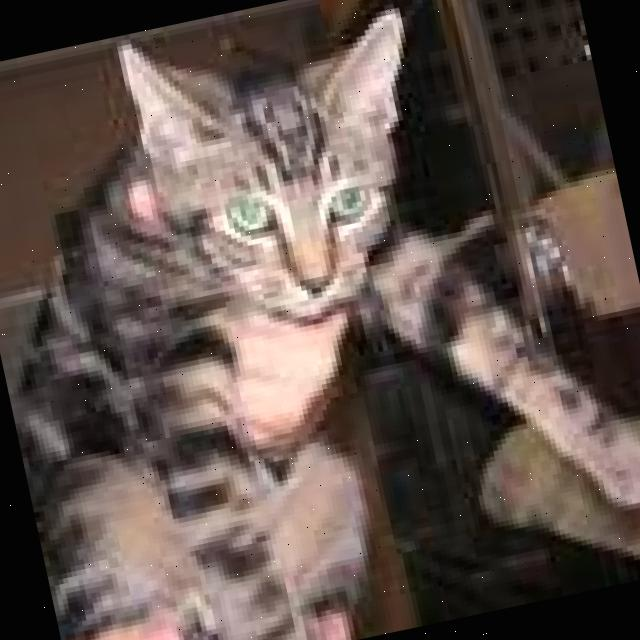cat-eye-normal: (212, 178, 292, 256), (308, 166, 388, 236)
